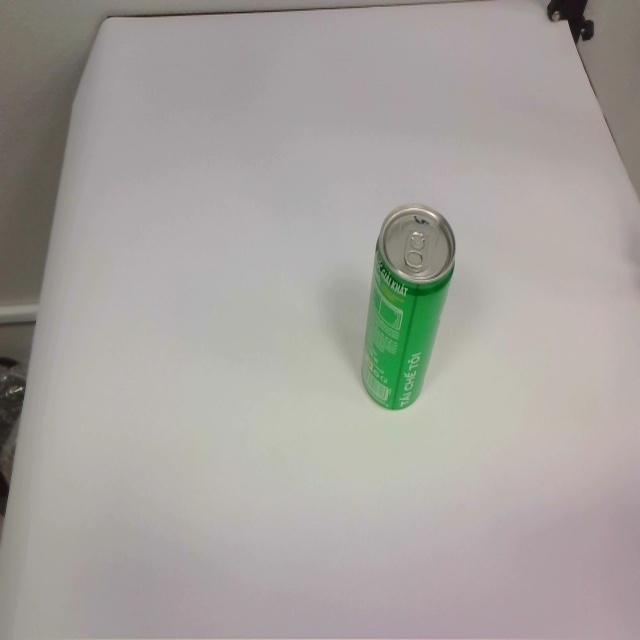debris: (361, 203, 457, 412)
